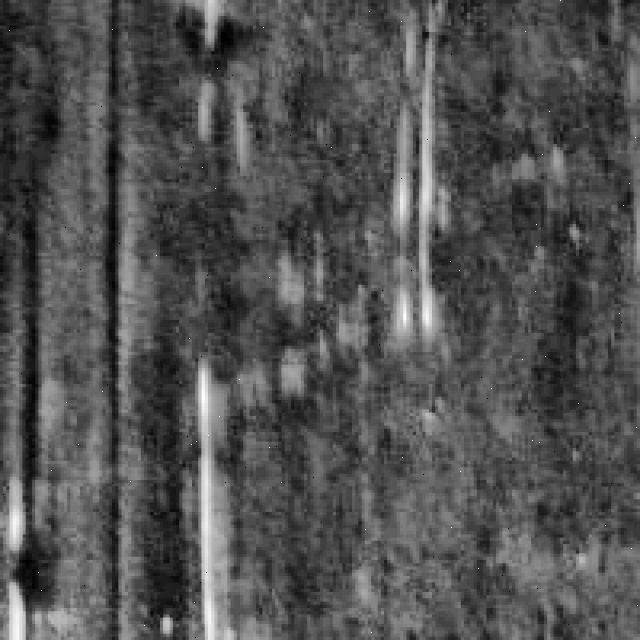Inclusion: (384, 22, 454, 333), (182, 342, 237, 637)
Patches: (19, 13, 131, 624)
